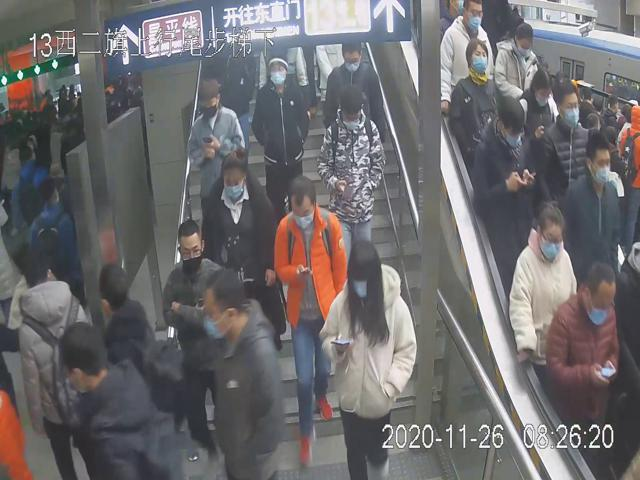person: (316, 237, 417, 480), (274, 171, 352, 466), (201, 264, 286, 480), (163, 218, 236, 458), (540, 258, 625, 462), (198, 148, 282, 343), (504, 192, 581, 377), (311, 85, 385, 256), (472, 92, 537, 276), (248, 48, 317, 206), (186, 76, 245, 232), (319, 38, 386, 158), (450, 37, 500, 162)
